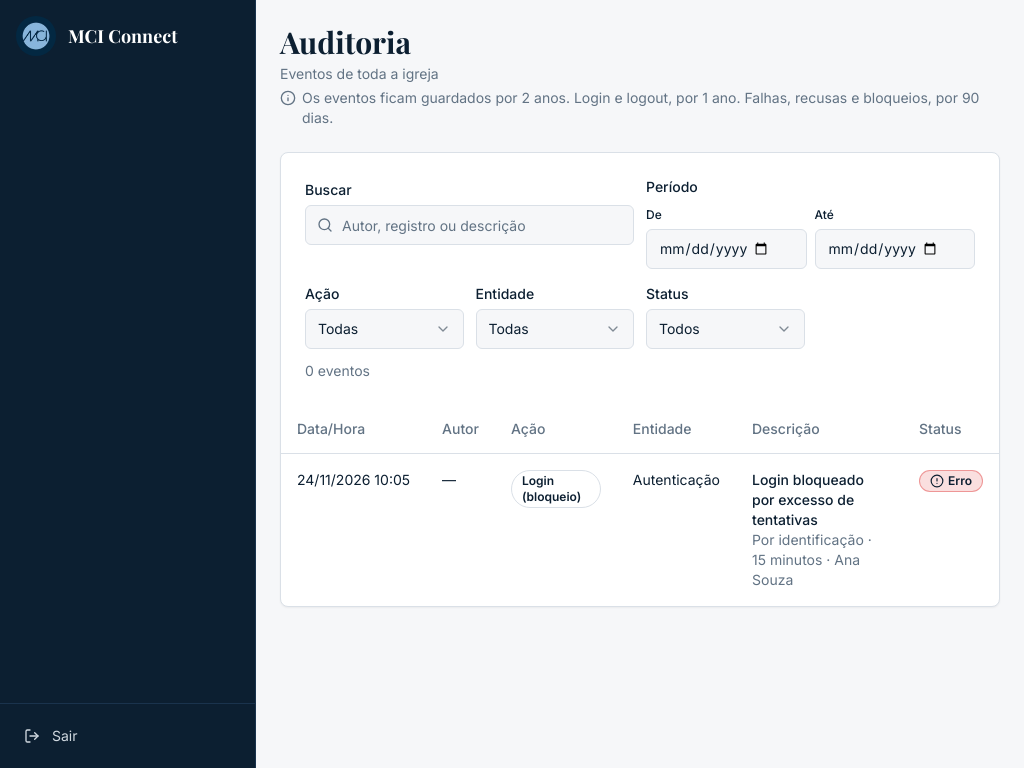
Test case: UX-15: ação 'Login (bloqueio)' › Dado um evento login_blocked, então a linha e o painel mostram 'Login (bloqueio)', e não o código
Expected: the text "Login (bloqueio)" is shown, 511,470 -> 601,508
Click the text "Login bloqueado por excesso de tentativas" at (354, 479), box 281,453 -> 999,606
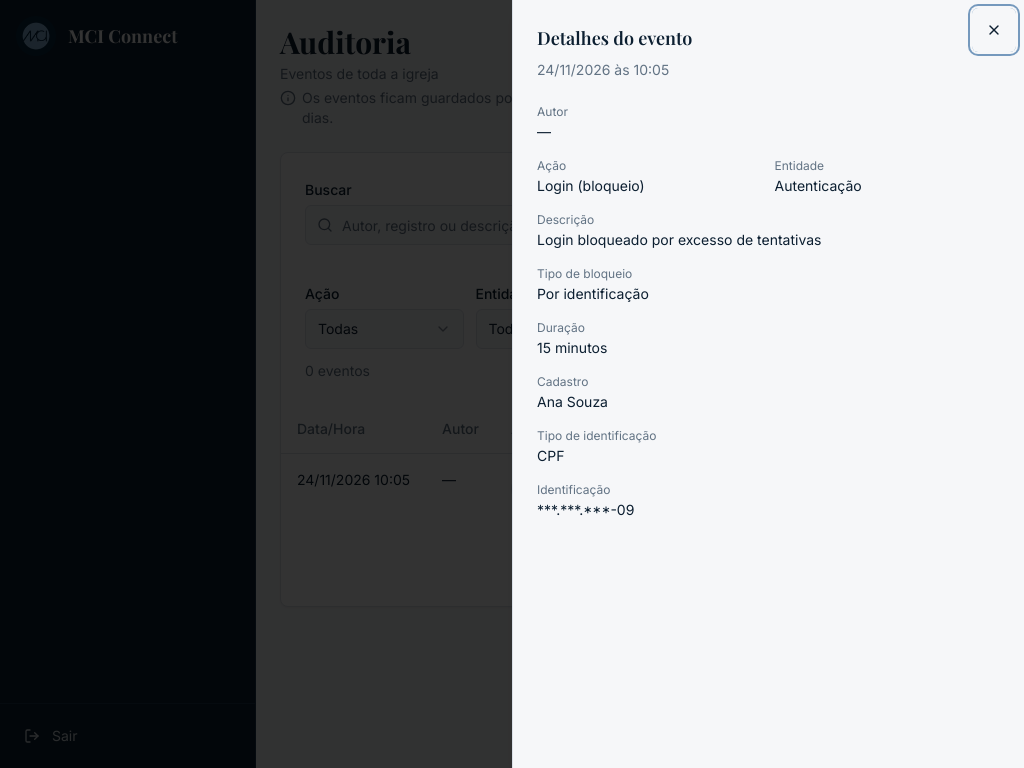
Now the text "Login (bloqueio)" is shown, box 537,177 -> 645,194
